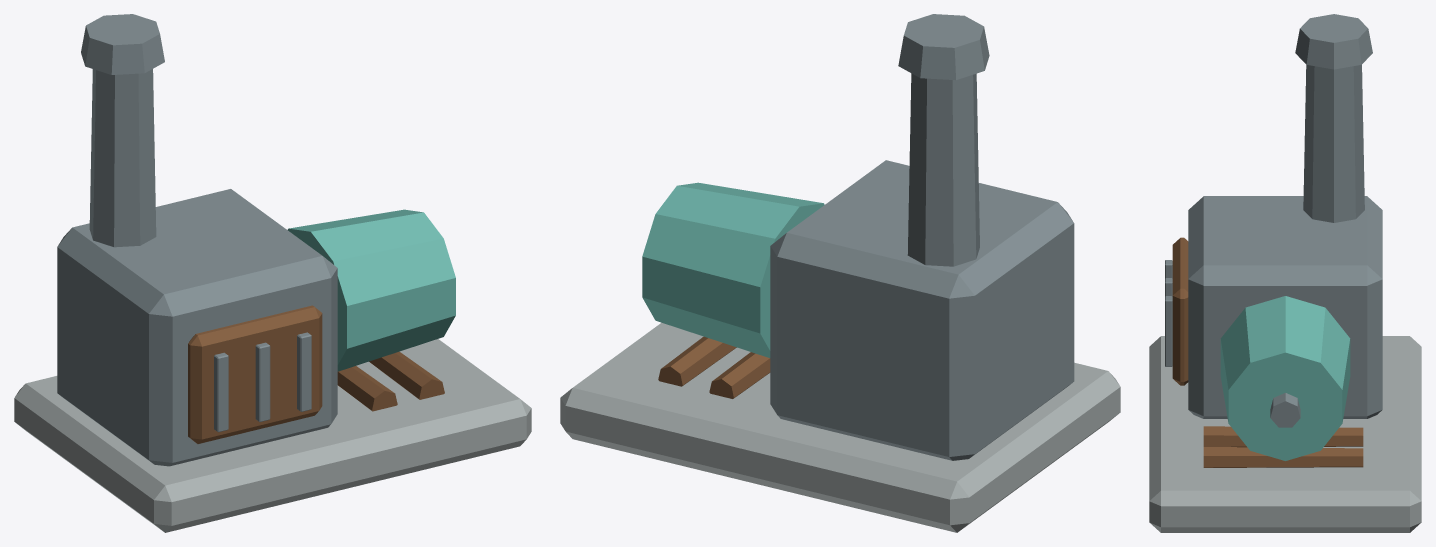
The model's file is CC_WoodGenerator.fbx.
3 renders of one model, left to right at view 1: azimuth 30°, elevation 25°; view 2: azimuth 150°, elevation 25°; view 3: azimuth 270°, elevation 25°, orthographic. The views are drawn at different scales.
Visible parts, largest first — view 1: Firebox, Base, Dynamo, Door.001, Chimney, Chimney rim, Fuel twig.001, Fuel twig, Grate.001, Grate, Grate.002; view 2: Firebox, Base, Dynamo, Chimney, Chimney rim, Fuel twig.001, Fuel twig; view 3: Base, Firebox, Dynamo, Chimney, Chimney rim, Fuel twig.001, Door.001, Fuel twig, Axle, Grate.002.
Boxes of the visible parts, x1,y1,x2,y2 form: Firebox: (57,189,337,466); Base: (14,339,531,532); Dynamo: (287,209,455,371); Door.001: (188,305,322,443); Chimney: (89,69,156,247); Chimney rim: (81,14,164,74); Fuel twig.001: (369,351,444,399); Fuel twig: (337,366,397,411); Grate.001: (255,342,270,421); Grate: (214,352,228,432); Grate.002: (297,332,311,411); Firebox: (770,160,1074,460); Base: (560,322,1120,532); Dynamo: (642,182,824,357); Chimney: (907,73,979,266); Chimney rim: (898,14,989,80); Fuel twig.001: (658,336,736,386); Fuel twig: (709,352,770,398); Base: (1149,336,1421,532); Firebox: (1188,196,1382,418); Dynamo: (1220,296,1350,460); Chimney: (1303,64,1364,222); Chimney rim: (1295,14,1372,69); Fuel twig.001: (1203,447,1363,467); Door.001: (1172,237,1188,385); Fuel twig: (1203,426,1363,447); Axle: (1270,393,1300,427); Grate.002: (1165,296,1172,366).
Bounding box in the file's own units: 2 × 2.12 × 1.4.
